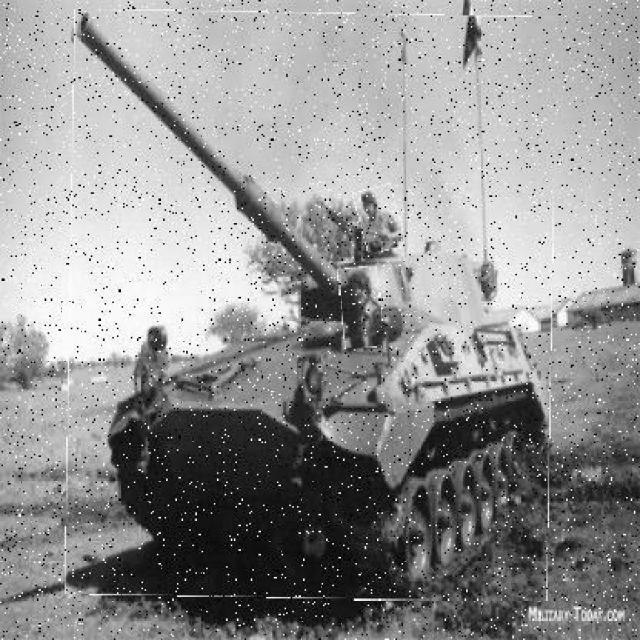Person: (341, 269, 383, 350), (358, 187, 402, 253)
Tank: (69, 13, 555, 601)
